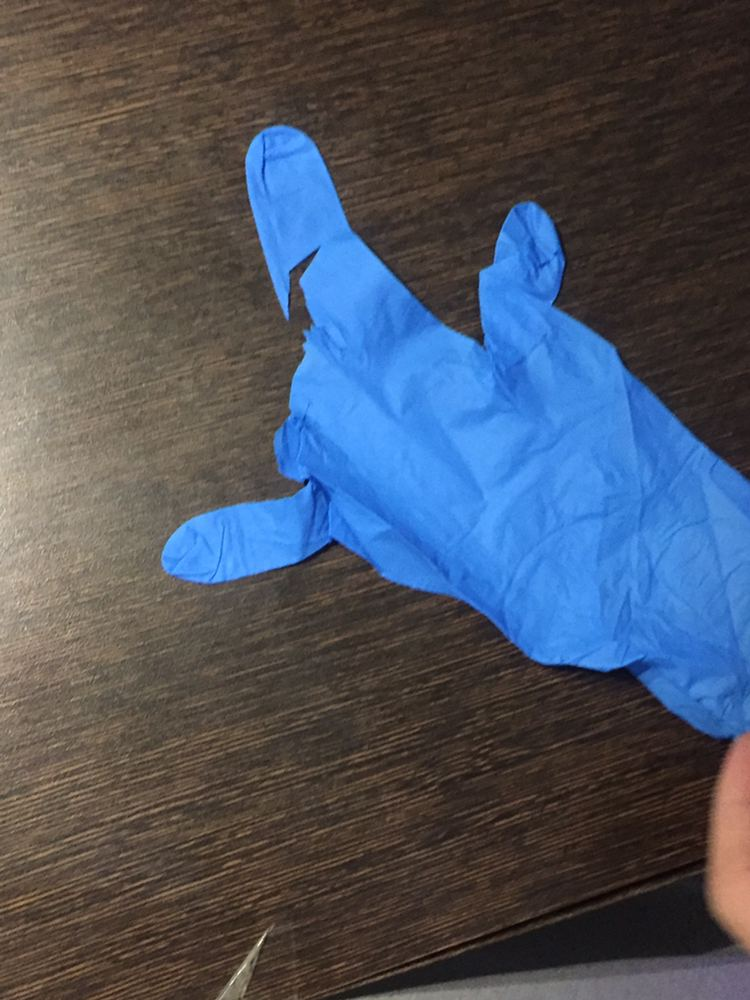defected: (112, 118, 750, 726)
